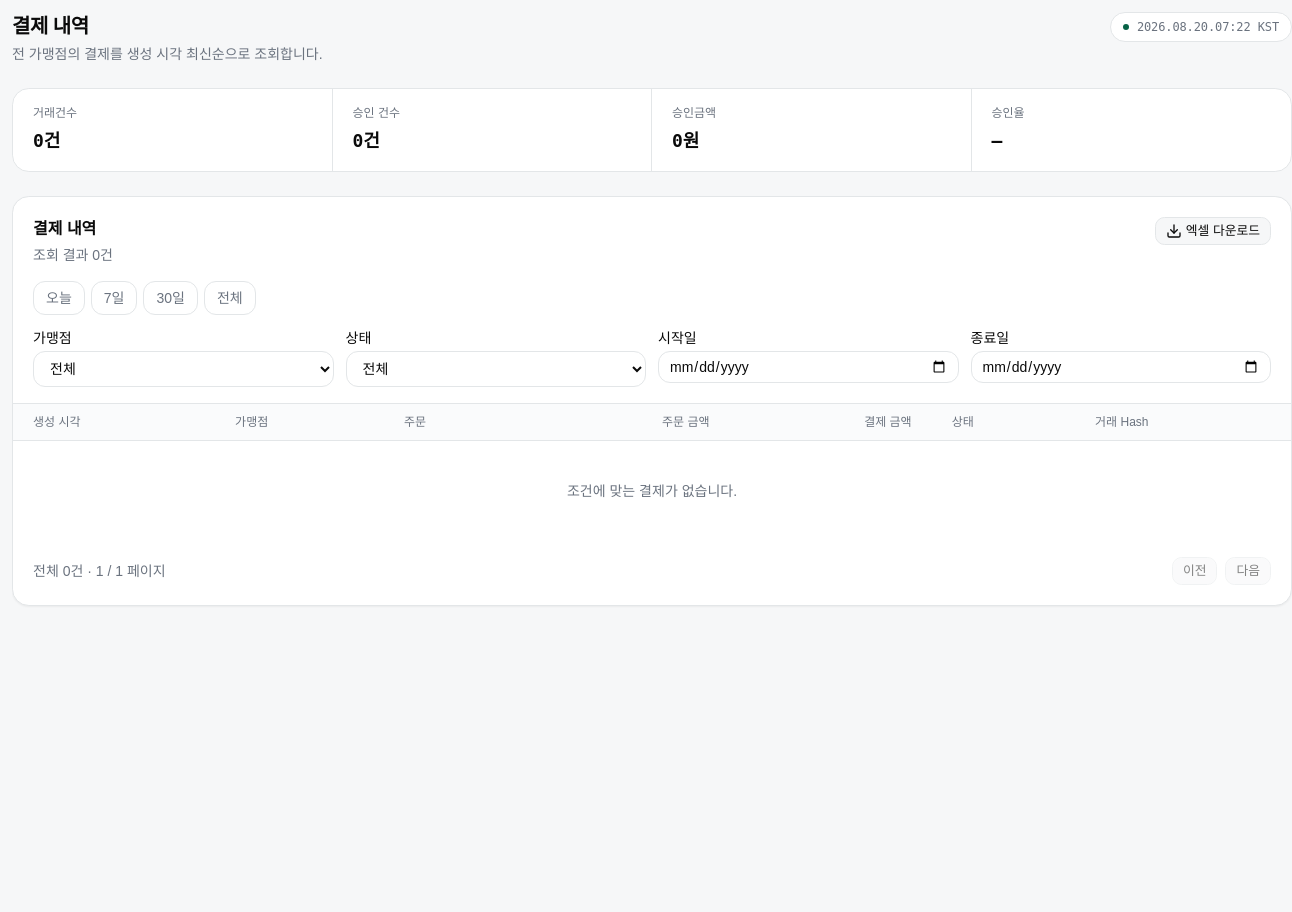
엑셀 다운로드 › 서버가 잘렸다고 알리면 화면에 경고를 띄운다
The width and height of the screenshot is (1292, 912).
Click the button "엑셀 다운로드" at (1213, 231), box [1155,217,1271,245]
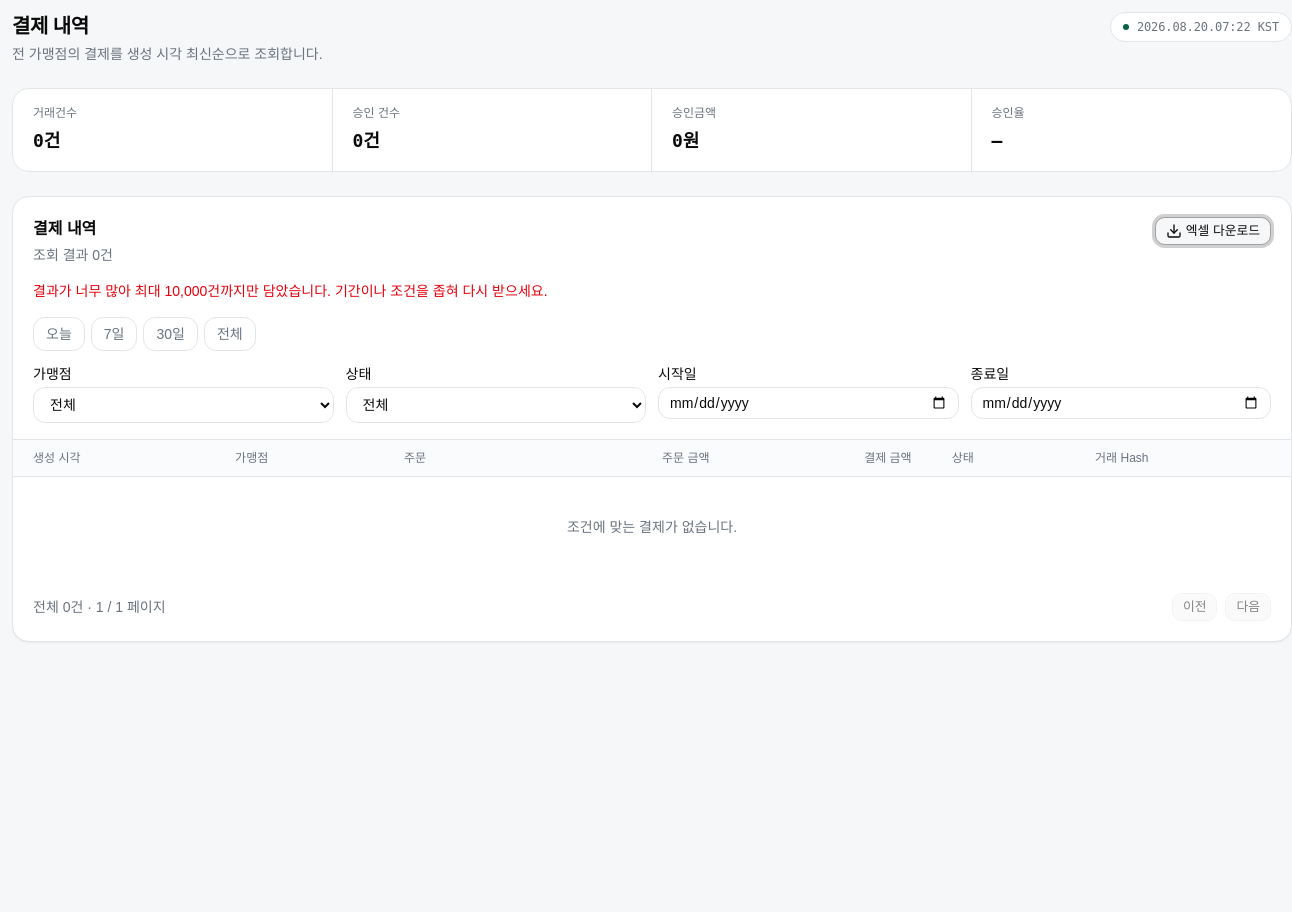
Expected: the text "결과가 너무 많아 최대 10,000건까지만 담았습니다. 기간이나 조건을 좁혀 다시 받으세요." is shown, [33,283,548,299]
